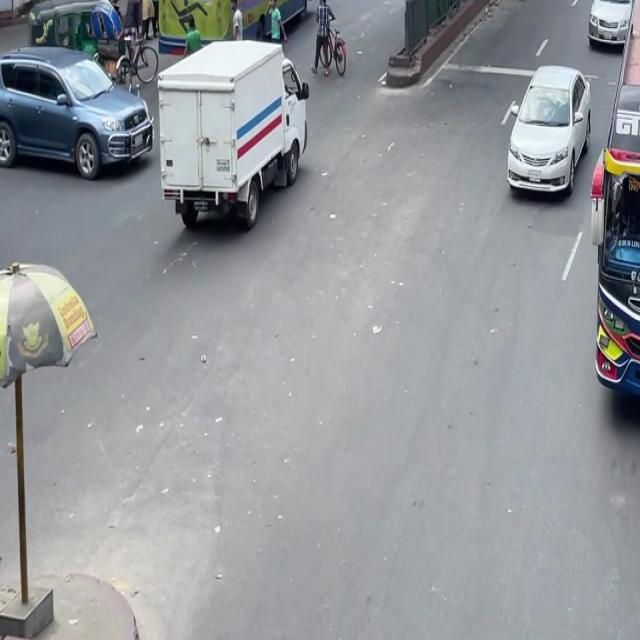bicycle: (318, 20, 349, 78)
bus: (588, 0, 640, 415)
car: (0, 23, 155, 198), (502, 60, 596, 211), (584, 0, 640, 56)
van: (152, 26, 310, 248)
